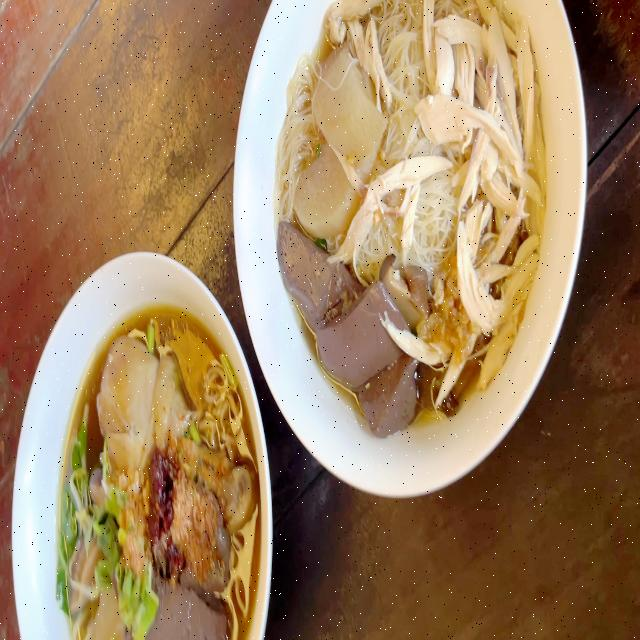boiled_chicken_blood_jelly: (309, 288, 405, 394), (274, 227, 346, 321), (160, 589, 228, 640), (373, 352, 415, 430)
chicken_shredded: (419, 2, 534, 401), (332, 147, 447, 260), (412, 83, 517, 169), (318, 0, 382, 51)
daikon_radish: (312, 49, 376, 161), (296, 146, 352, 230), (85, 582, 125, 638)
noodle: (285, 0, 541, 423), (54, 308, 263, 640)
